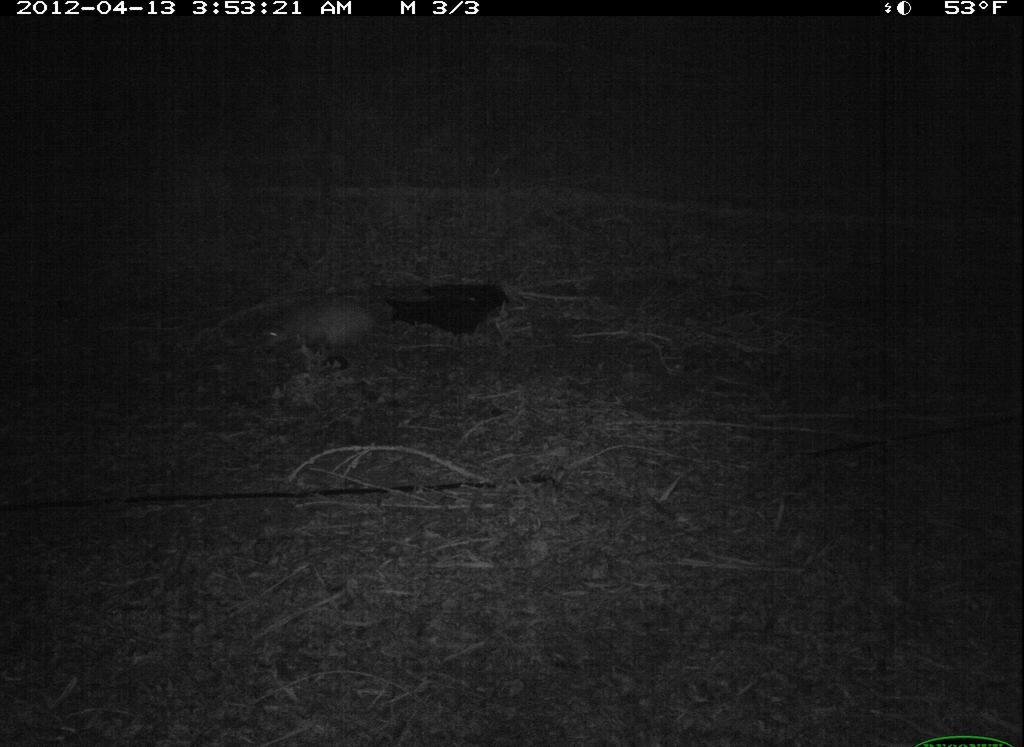opossum: (239, 289, 397, 369)
